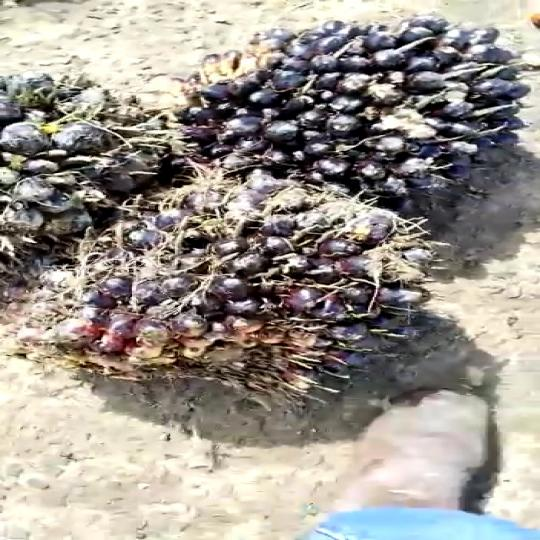mentah: (57, 170, 434, 414), (164, 11, 526, 213), (0, 60, 160, 276)
